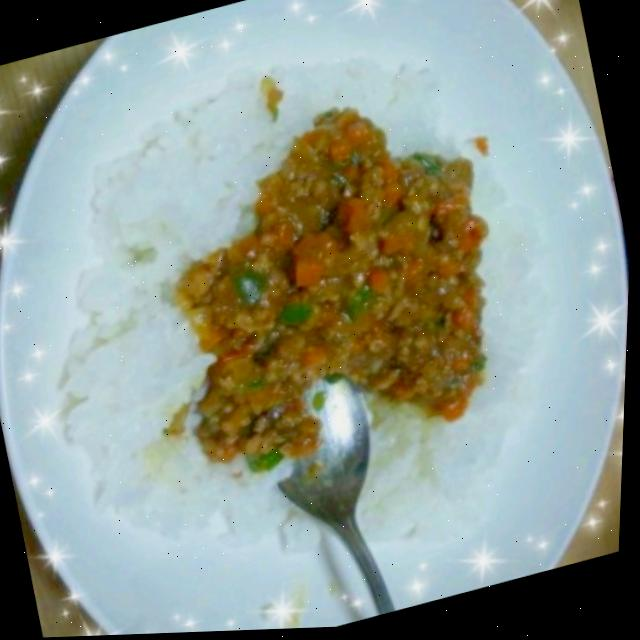三明治: (70, 0, 541, 637)
